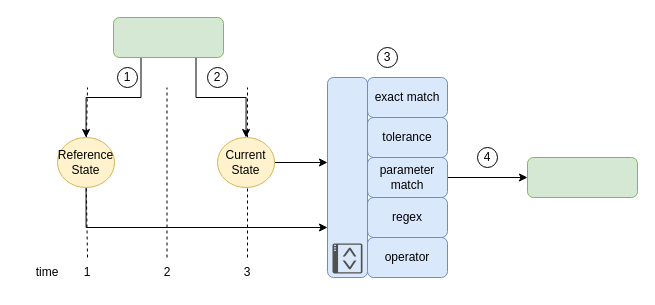
Some shapes in this 655 by 305 pixel diagram are drawn without their labels. Each missing label, with the centre of its shape:
"API" belongs at pixel 168 37.
"NETCOMPARE" belongs at pixel 347 177.
"result(diff, result)" belongs at pixel 582 177.
